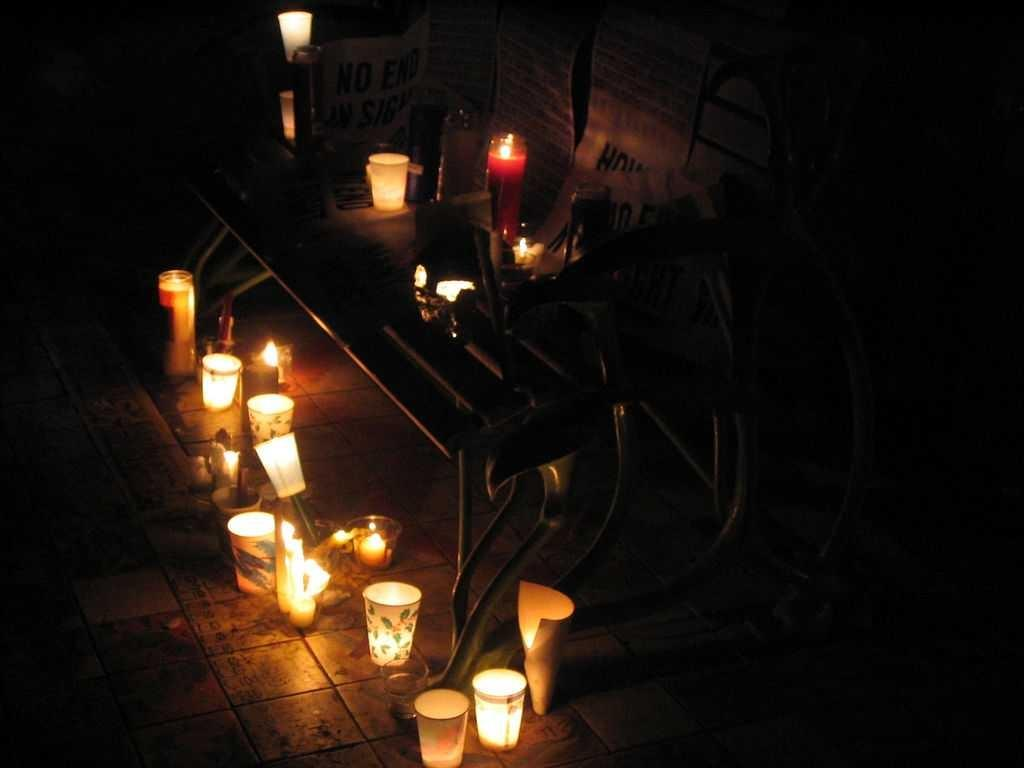fire: (264, 517, 339, 617), (251, 331, 299, 385), (491, 137, 539, 182), (357, 517, 397, 561)
